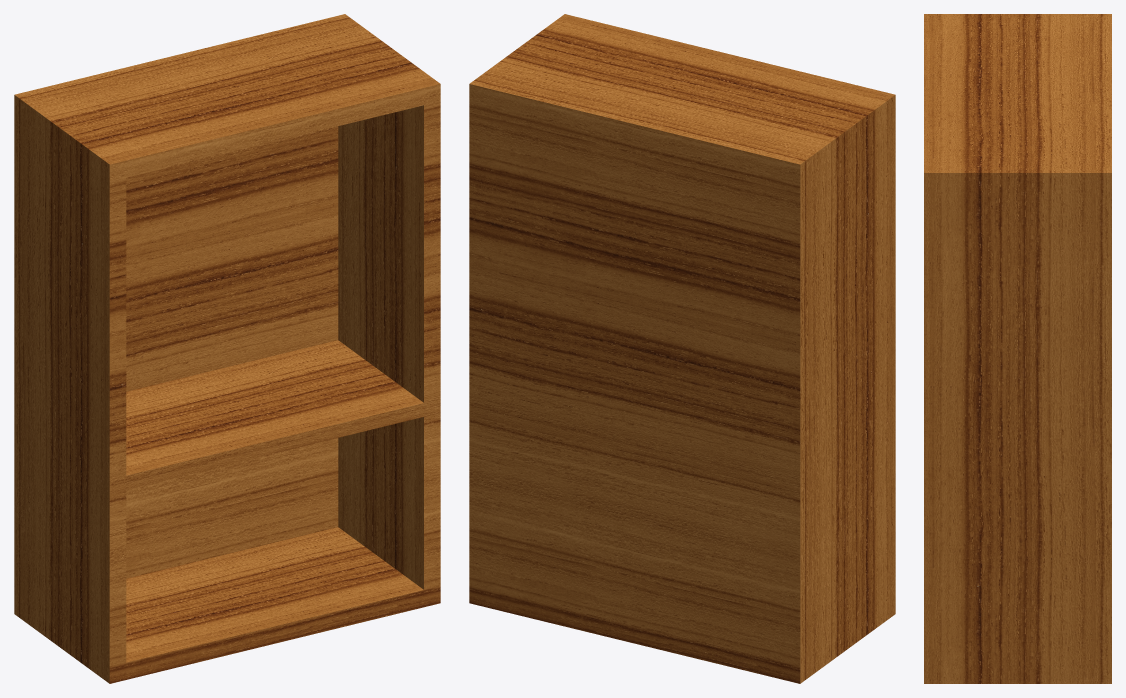
File: cupboard_back.obj
3 views of the same model, side by side, from view 1: azimuth 30°, elevation 25°; view 2: azimuth 150°, elevation 25°; view 3: azimuth 270°, elevation 25° (orthographic).
Parts seen in each view (by area): view 1: |cupboard_back_VISUALIZE|Root|polished_teak_2d; view 2: |cupboard_back_VISUALIZE|Root|polished_teak_2d; view 3: |cupboard_back_VISUALIZE|Root|polished_teak_2d.
Part boxes in pixels (bbox=[...]): |cupboard_back_VISUALIZE|Root|polished_teak_2d: bbox=[14, 14, 440, 683]; |cupboard_back_VISUALIZE|Root|polished_teak_2d: bbox=[469, 14, 895, 683]; |cupboard_back_VISUALIZE|Root|polished_teak_2d: bbox=[924, 14, 1111, 683].
Size of the model in its own units: 0.1 by 0.15 by 0.05.
1 material, 1 textured.
